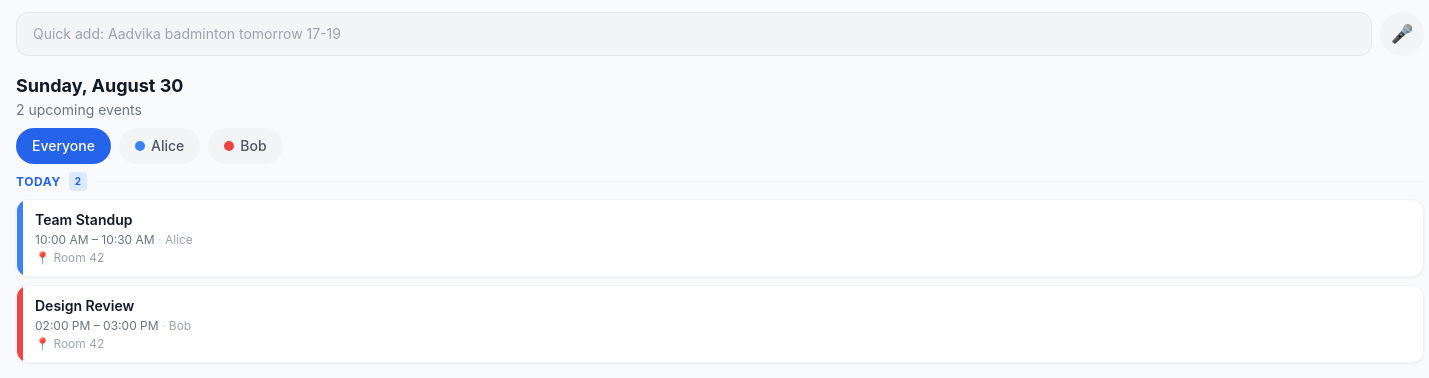
Scenario: TodayView › clicking filter chip filters events
Expected: the text "Team Standup" is shown, 35,211 -> 132,228
Expected: the text "Design Review" is shown, 35,297 -> 134,314
// The filter chip is the first button with Alice text in the chip bar
Click the button "Alice".
click(160, 146)  # box 119,128 -> 200,164
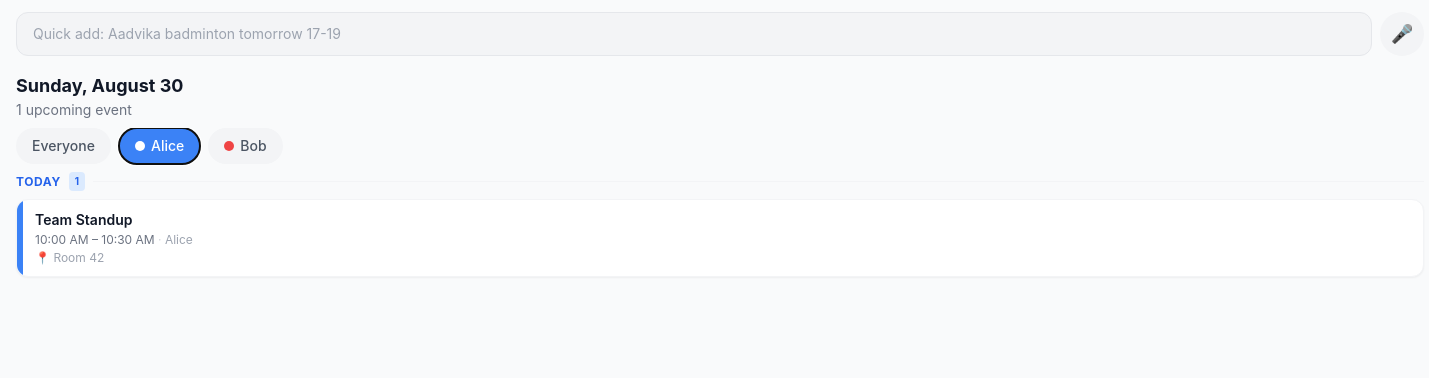
Expected: the text "Team Standup" is shown, 35,211 -> 132,228
Result: the button "Design Review" is gone
